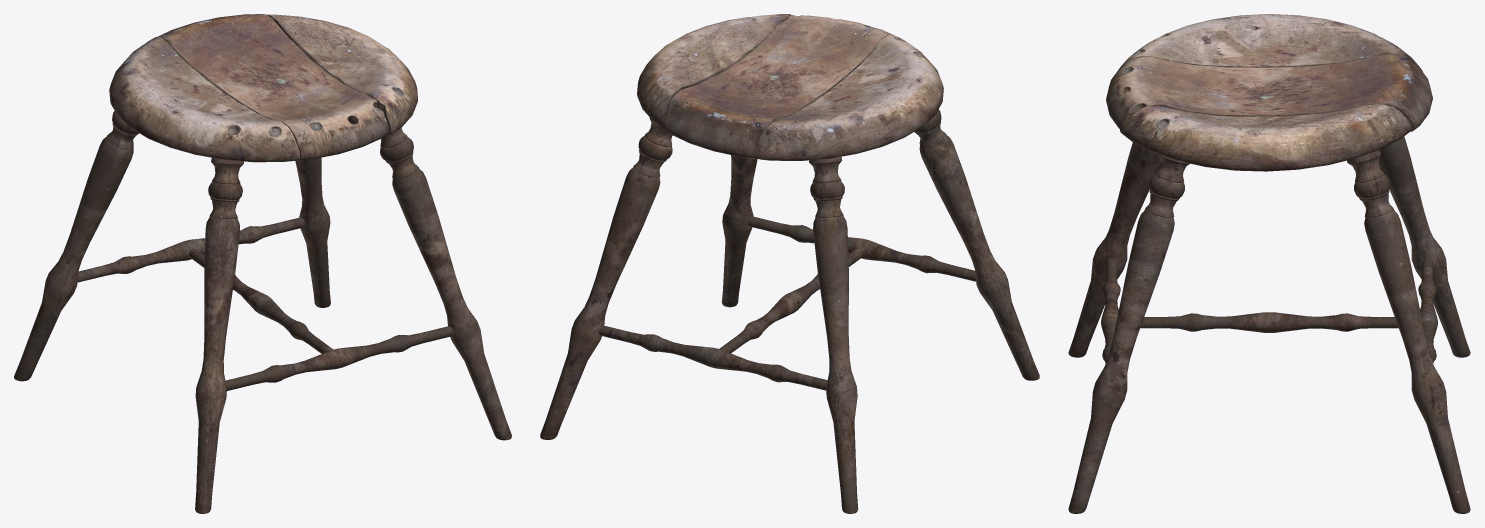
Rendered from ph-wooden-stool-01.glb.
3 renders of one model, left to right at view 1: azimuth 30°, elevation 25°; view 2: azimuth 150°, elevation 25°; view 3: azimuth 270°, elevation 25°, orthographic. The views are drawn at different scales.
Visible parts, largest first — view 1: wooden_stool_01; view 2: wooden_stool_01; view 3: wooden_stool_01.
Boxes of the visible parts, x1,y1,x2,y2 form: wooden_stool_01: (14,14,511,513); wooden_stool_01: (540,14,1039,513); wooden_stool_01: (1068,14,1470,513).
Size of the model in its own units: 0.4254 by 0.4373 by 0.4424.
Materials: 1 (1 with a texture image).
